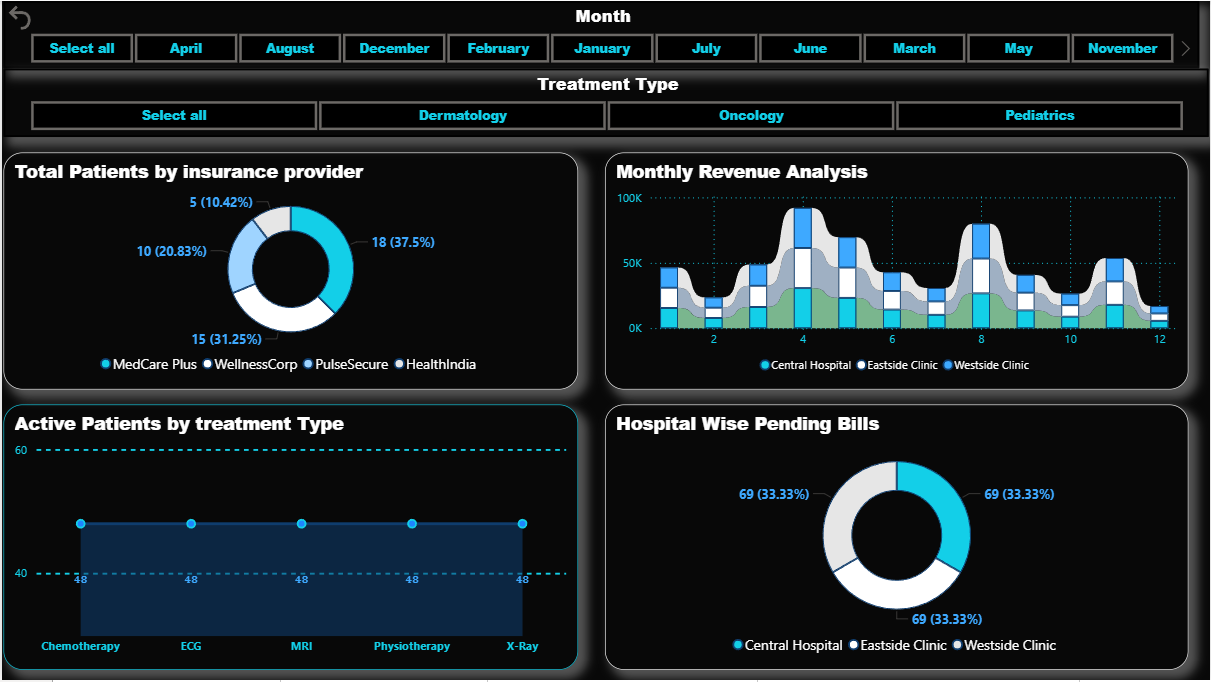

The page's visual inventory and layout, read from the dashboard file:
{"tool":"powerbi","page":{"name":"Operation Insights","canvas":[1280,720],"ordinal":4},"visuals":[{"type":"donutChart","title":"Total Patients by insurance provider","fields":{"Category":["Patients.insurance_provider"],"Y":["DAX Measures.Total Patients"]},"box":[1.6,160.7,609.2,251.3],"z":0},{"type":"ribbonChart","title":"Monthly Revenue Analysis","fields":{"Category":["Calendar.Month"],"Series":["Doctors.hospital_branch"],"Y":["DAX Measures.Monthly Revenue"]},"box":[639.4,160.7,618.7,251.3],"z":1000},{"type":"stackedAreaChart","title":"Active Patients by treatment Type","fields":{"Category":["Treatments.treatment_type"],"Y":["DAX Measures.Active Patients"]},"box":[1.6,427.9,609.2,281.5],"z":2000},{"type":"donutChart","title":"Hospital Wise Pending Bills","fields":{"Y":["DAX Measures.Pending Bills"],"Category":["Doctors.hospital_branch"]},"box":[639.4,427.9,618.7,281.5],"z":3000},{"type":"slicer","title":"Month","fields":{"Values":["Calendar.Month Name"]},"box":[1.6,0,1267.7,71.6],"z":4000},{"type":"slicer","title":"Treatment Type","fields":{"Values":["Doctors.specialization"]},"box":[2,70.9,1278,72.9],"z":5000},{"type":"actionButton","box":[1.6,0,60.4,35],"z":6000}]}

Visuals, with their boxes in screenshot pixels (x1, y1, x2, y2), scaled from the page's 1280x720 canvas onto the 1211x682 screenshot:
"Total Patients by insurance provider" donutChart: BBox(2, 152, 578, 390)
"Monthly Revenue Analysis" ribbonChart: BBox(605, 152, 1190, 390)
"Active Patients by treatment Type" stackedAreaChart: BBox(2, 405, 578, 672)
"Hospital Wise Pending Bills" donutChart: BBox(605, 405, 1190, 672)
"Month" slicer: BBox(2, 0, 1201, 68)
"Treatment Type" slicer: BBox(2, 67, 1210, 136)
actionButton: BBox(2, 0, 59, 33)
